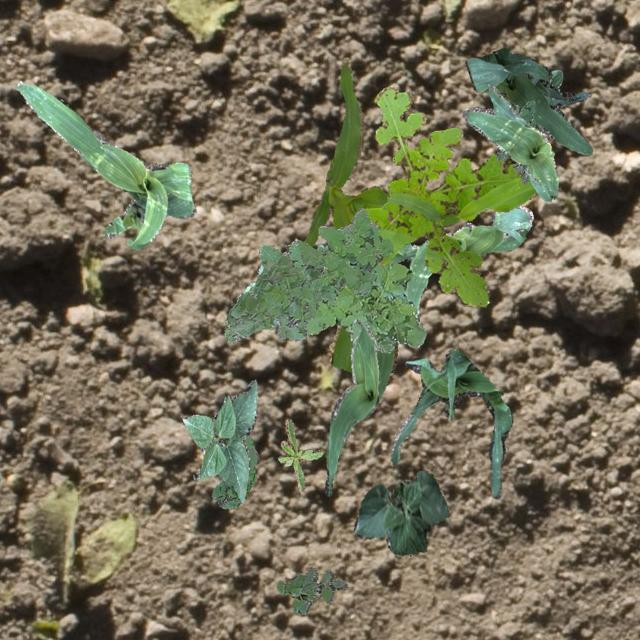crop: (304, 57, 456, 370), (16, 80, 194, 248), (389, 348, 512, 498), (388, 204, 532, 318), (464, 46, 592, 154), (462, 84, 558, 200), (324, 318, 378, 494), (182, 378, 256, 502), (352, 468, 448, 554), (375, 284, 425, 399), (242, 262, 262, 292), (548, 68, 562, 86)
weed: (364, 84, 538, 306), (224, 206, 392, 342), (306, 242, 426, 352), (496, 100, 540, 182), (210, 434, 258, 508), (276, 418, 324, 490), (276, 566, 346, 614)
